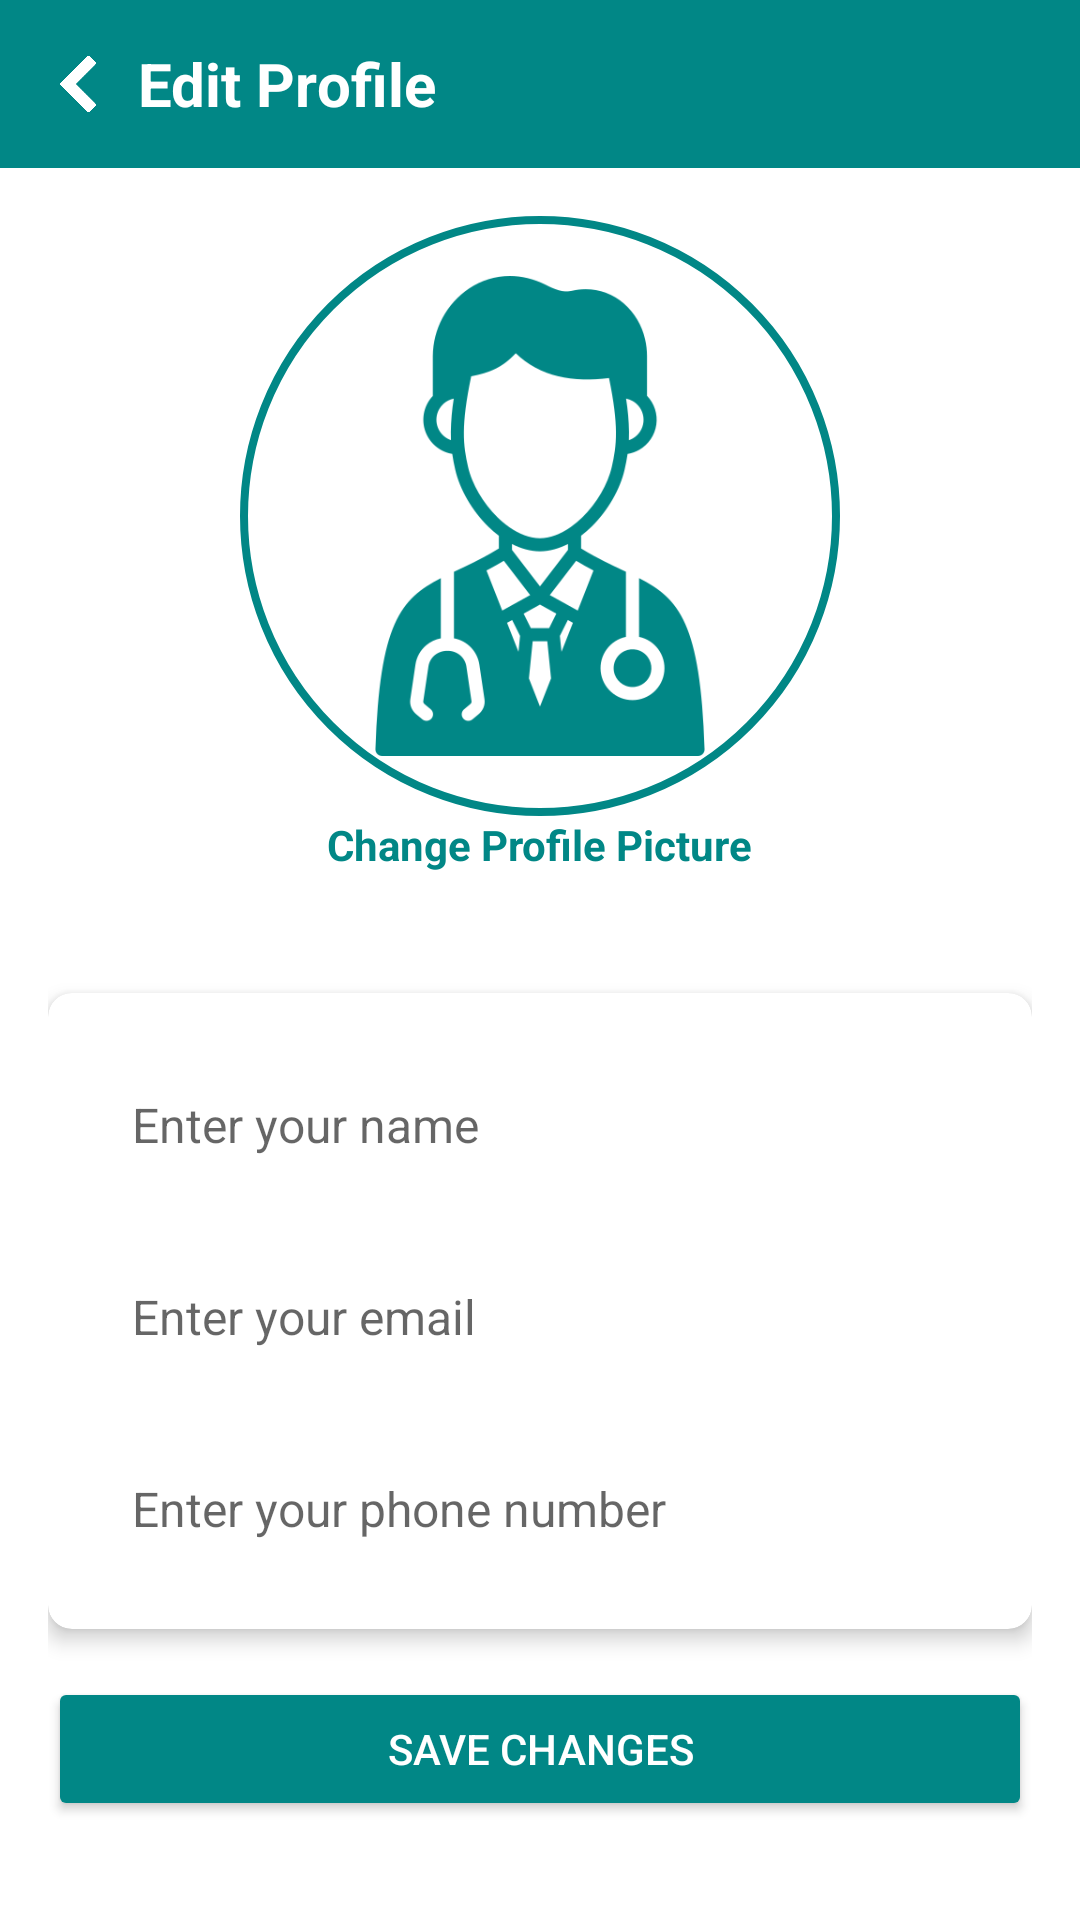

Icons on this 1080*1920 Android screen, each with its box as region(x1, y1, x2, y2):
Back Button: region(60, 56, 96, 112)
